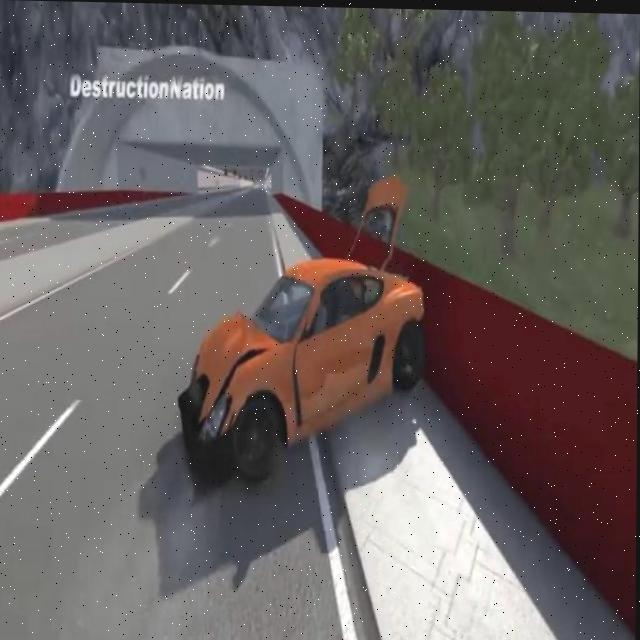single accident: (129, 146, 452, 468)
